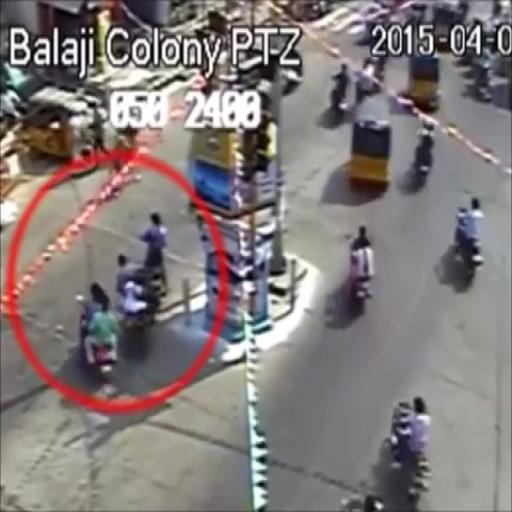小汽车: (29, 88, 88, 167), (351, 95, 394, 199), (410, 46, 444, 114)
自行车: (384, 389, 432, 508), (72, 283, 122, 392), (342, 221, 376, 317), (447, 197, 483, 283), (412, 120, 438, 180), (329, 62, 353, 120)
自行车撞自行车: (116, 201, 178, 371)
